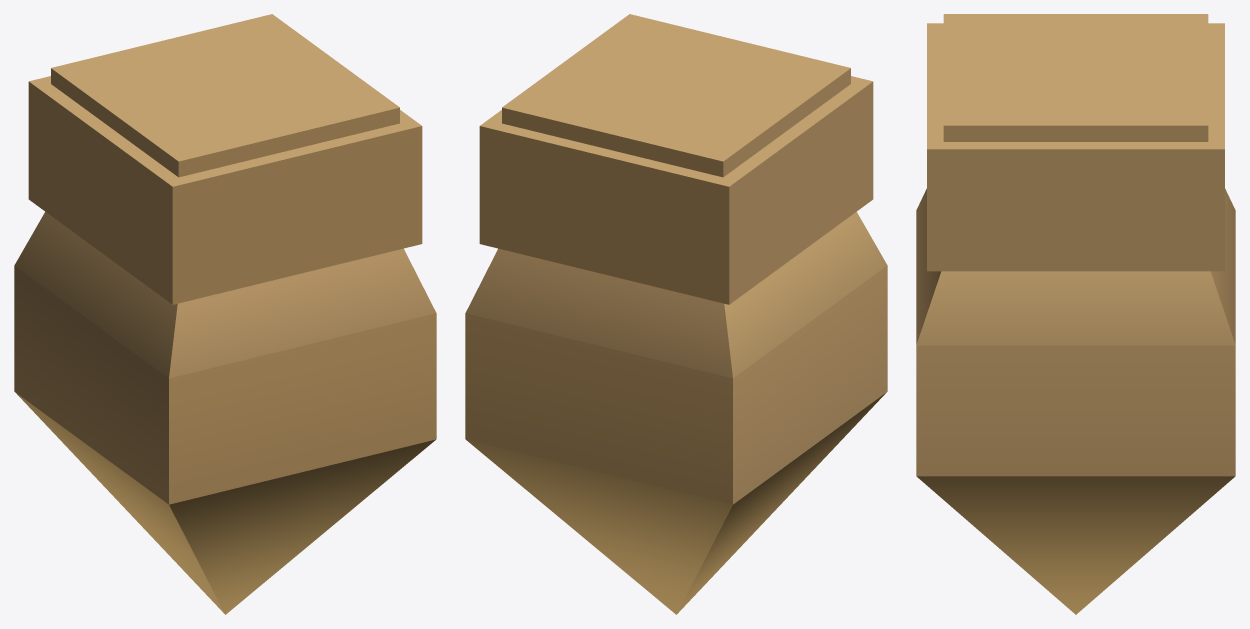
File: ST_Env_Railing_Pillar_02.fbx
The picture shows the model from 3 angles, left to right: view 1: azimuth 30°, elevation 25°; view 2: azimuth 150°, elevation 25°; view 3: azimuth 270°, elevation 25°; orthographic projection. The views are drawn at different scales.
Visible parts, largest first — view 1: ST_Env_Railing_Pillar_02; view 2: ST_Env_Railing_Pillar_02; view 3: ST_Env_Railing_Pillar_02.
Boxes of the visible parts, x1,y1,x2,y2 form: ST_Env_Railing_Pillar_02: (14, 14, 436, 614); ST_Env_Railing_Pillar_02: (465, 14, 887, 614); ST_Env_Railing_Pillar_02: (916, 14, 1235, 614).
Bounding box in the file's own units: 0.5788 × 1.09 × 0.5788.
